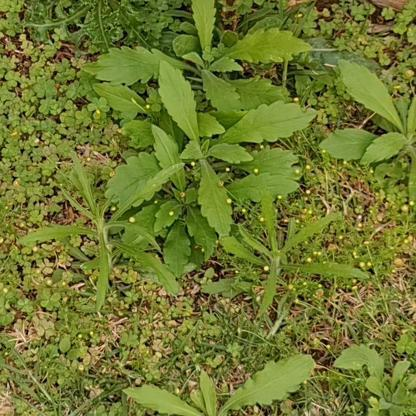Weeds: (92, 59, 303, 287), (16, 149, 179, 322), (79, 2, 312, 117), (219, 186, 368, 322), (320, 57, 415, 201), (123, 353, 313, 415), (19, 0, 196, 53), (333, 343, 415, 415)
